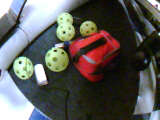Ball: (43, 45, 70, 72), (12, 57, 35, 80), (54, 12, 75, 29), (80, 20, 98, 39), (55, 24, 75, 40)
